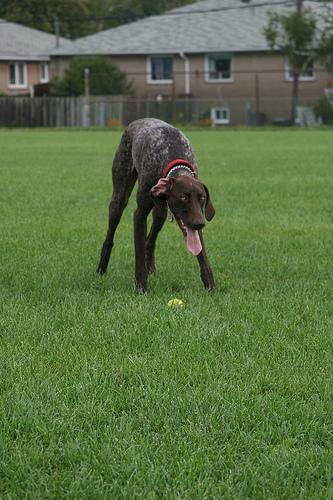dog-german_shorthaired: (148, 176, 214, 254)
